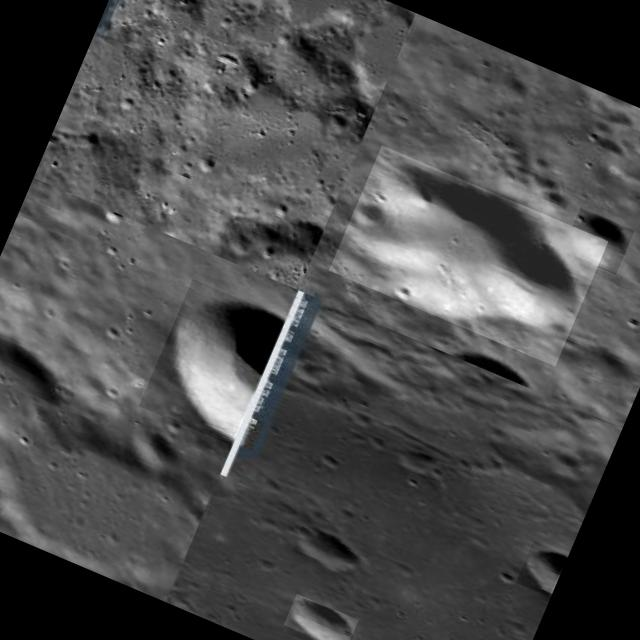crater: (328, 145, 608, 366), (138, 278, 284, 444), (561, 208, 634, 274), (290, 523, 364, 578), (283, 593, 358, 640), (515, 541, 566, 596)
